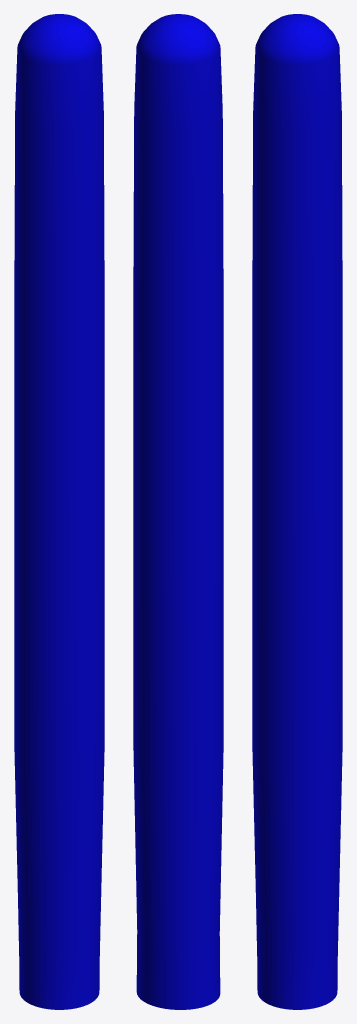
File: RailingPole.fbx
3 views of the same model, side by side, from view 1: azimuth 90°, elevation 25°; view 2: azimuth 150°, elevation 25°; view 3: azimuth 270°, elevation 25° (orthographic).
Visible parts, largest first — view 1: Railing; view 2: Railing; view 3: Railing.
Part boxes in pixels (x1,y1,x2,y2): Railing: (14, 14, 104, 1009); Railing: (133, 14, 223, 1009); Railing: (252, 14, 342, 1009).
Bounding box in the file's own units: 69.07 × 824 × 69.07.
